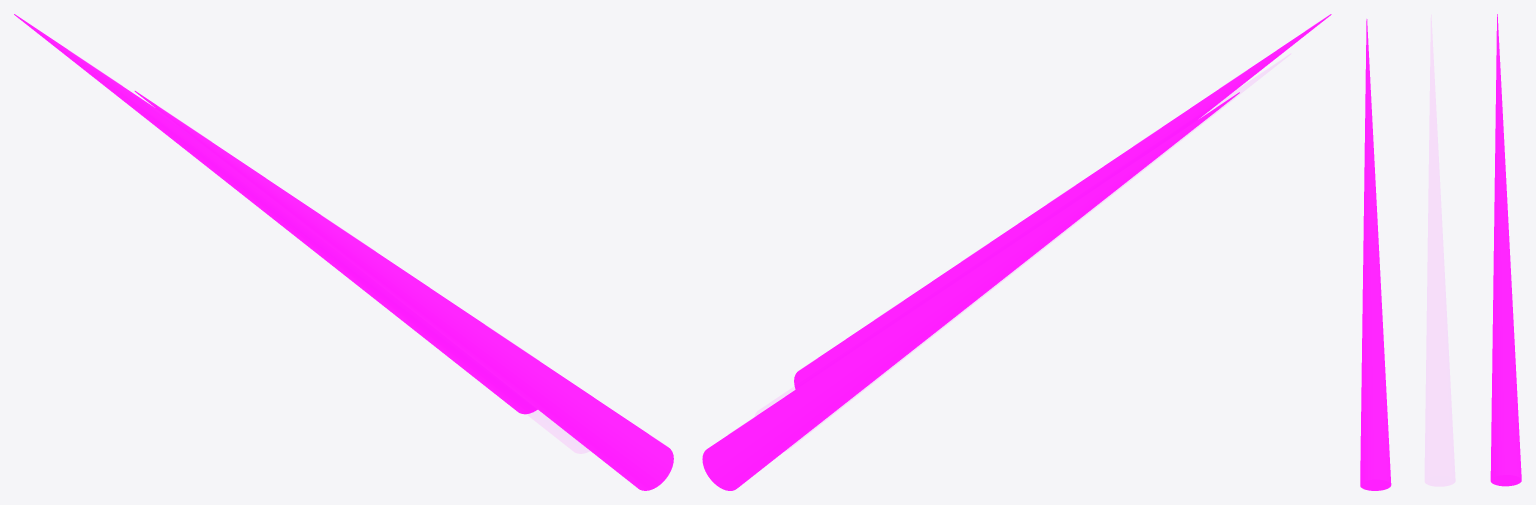
File: Spotlight loop.glb
3 renders of one model, left to right at view 1: azimuth 30°, elevation 25°; view 2: azimuth 150°, elevation 25°; view 3: azimuth 270°, elevation 25°, orthographic. The views are drawn at different scales.
Visible parts, largest first — view 1: Cube.034; view 2: Cube.034; view 3: Cube.034.
Part boxes in pixels (x1=…): Cube.034: x1=14, y1=14, x2=673, y2=490; Cube.034: x1=702, y1=14, x2=1331, y2=490; Cube.034: x1=1360, y1=14, x2=1521, y2=490.
Bounding box in the file's own units: 19.72 × 17.98 × 8.19.
